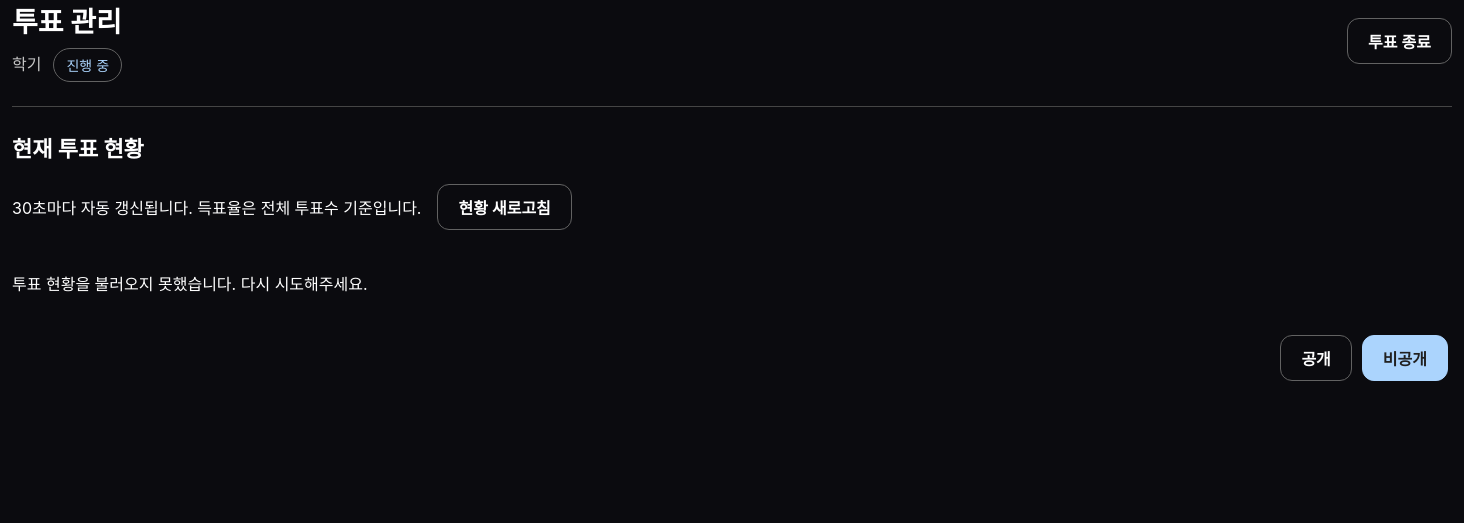
it: 최초 조회 실패를 0표로 표시하지 않고 화면에서 재시도한다
Check: the message shows "투표 현황을 불러오지 못했습니다", box [12, 274, 368, 294]
Check: the button "투표 종료" is enabled, box [1347, 18, 1452, 64]
Click the button "현황 새로고침". click: [505, 207]
box: [438, 184, 572, 230]
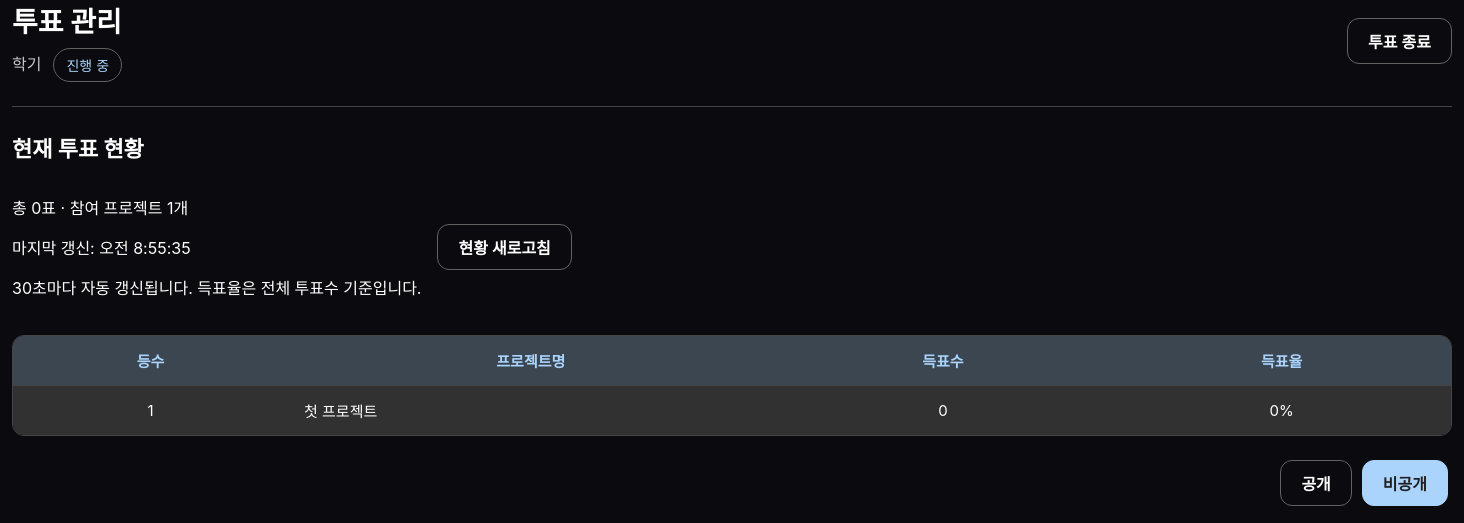
Check: the text "총 0표 · 참여 프로젝트 1개" is shown, box [12, 198, 188, 218]
Check: the message "투표 현황을 불러오지 못했습니다. 다시 시도해주세요." is gone
